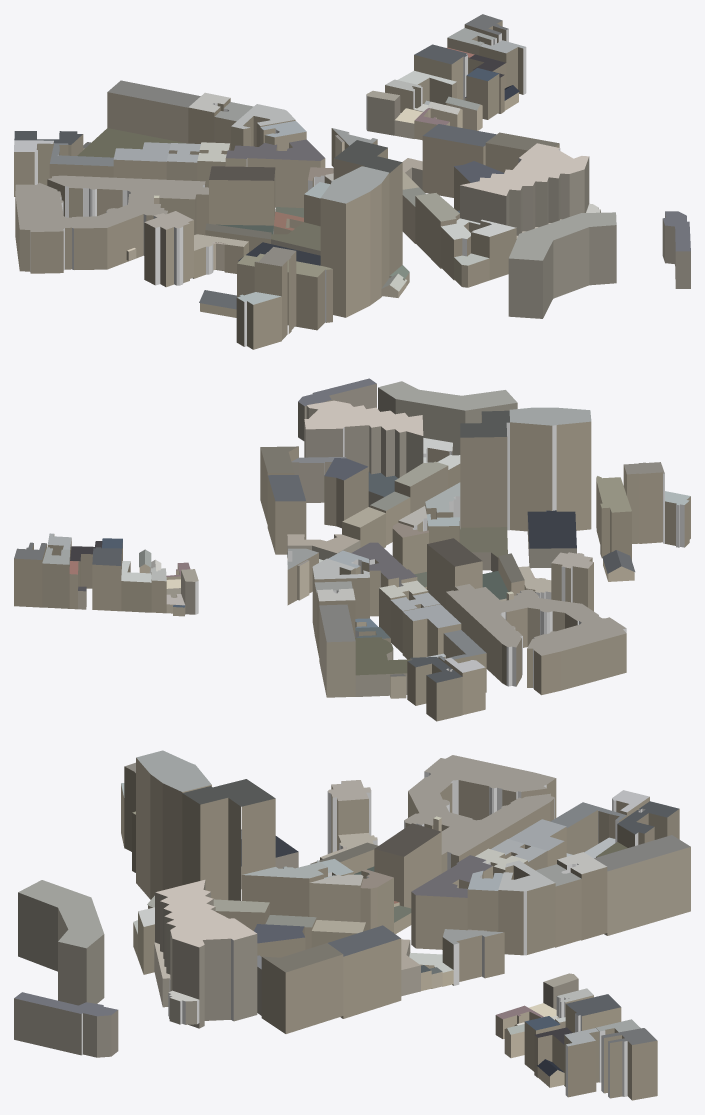
3 renders of one model, top to bottom at view 1: azimuth 30°, elevation 25°; view 2: azimuth 150°, elevation 25°; view 3: azimuth 270°, elevation 25°, orthographic. The views are drawn at different scales.
Visible parts, largest first — view 1: tuile; view 2: tuile; view 3: tuile.
Part boxes in pixels (box(x1,y1,x2,y2)): tuile: box(14, 14, 690, 349); tuile: box(14, 378, 690, 721); tuile: box(14, 750, 690, 1100).
Bounding box in the file's own units: 302 × 65.69 × 285.
